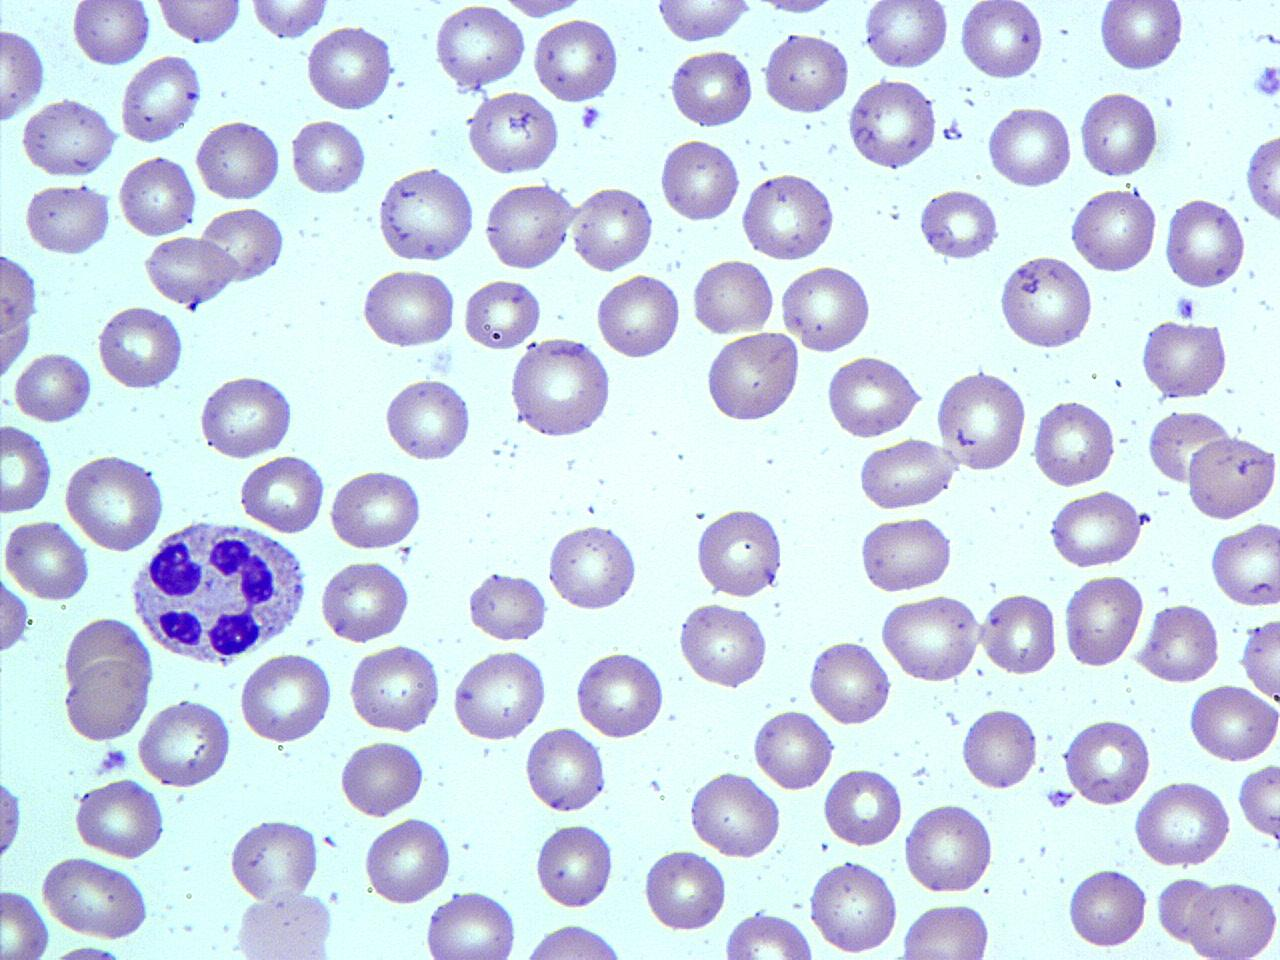Platelets: (1250, 64, 1280, 100), (98, 746, 130, 776), (1042, 786, 1078, 810), (1173, 292, 1199, 322), (578, 103, 604, 131), (940, 116, 964, 142), (187, 298, 201, 314)
RBC: (58, 614, 156, 744), (508, 336, 614, 442), (62, 452, 168, 553), (374, 164, 476, 264), (934, 368, 1028, 473), (997, 253, 1097, 351), (449, 646, 548, 744), (40, 856, 152, 942), (238, 648, 336, 746), (879, 592, 982, 685), (703, 329, 800, 425), (901, 800, 996, 898), (806, 857, 900, 956), (345, 642, 443, 736), (1132, 777, 1234, 867), (134, 698, 234, 789), (846, 76, 940, 172), (544, 520, 640, 614), (738, 170, 836, 262), (195, 375, 298, 462), (779, 262, 876, 354), (687, 769, 784, 861), (463, 88, 560, 179), (480, 180, 574, 273), (574, 647, 668, 740), (693, 505, 784, 601), (358, 266, 460, 351), (1068, 183, 1160, 276), (676, 602, 770, 692), (431, 4, 529, 90), (824, 353, 922, 439), (1161, 194, 1247, 292), (363, 816, 455, 907), (1061, 571, 1145, 670), (304, 23, 395, 114), (530, 15, 622, 105), (381, 374, 473, 464), (73, 774, 167, 862), (522, 722, 608, 818), (1186, 434, 1278, 523), (1047, 487, 1145, 570), (18, 97, 118, 178), (594, 270, 683, 361), (806, 636, 894, 728), (226, 816, 320, 902), (318, 558, 412, 644), (328, 469, 425, 552), (95, 302, 185, 391), (761, 28, 851, 117), (1062, 716, 1150, 807), (984, 102, 1073, 191), (231, 886, 338, 960), (532, 820, 618, 912), (1030, 397, 1116, 489), (570, 182, 655, 275), (855, 514, 955, 593), (642, 844, 728, 935), (656, 134, 742, 225), (1137, 317, 1231, 400), (1186, 682, 1280, 765), (1, 517, 92, 602), (336, 736, 427, 821), (119, 53, 202, 145), (1078, 88, 1160, 180), (194, 117, 281, 203), (238, 452, 327, 536), (1066, 864, 1150, 952), (856, 438, 958, 510), (668, 46, 754, 131), (1133, 602, 1221, 685), (1188, 877, 1276, 960), (116, 150, 197, 240), (21, 179, 113, 258), (958, 0, 1045, 83), (142, 230, 237, 306), (822, 764, 904, 851), (752, 708, 836, 792), (200, 202, 285, 285), (960, 705, 1040, 793), (980, 588, 1058, 678), (690, 256, 777, 336), (916, 184, 1002, 262), (1097, 0, 1185, 75), (423, 890, 518, 959), (1208, 518, 1280, 609), (862, 0, 952, 72), (288, 117, 368, 197), (12, 348, 94, 426), (465, 570, 548, 644), (462, 277, 542, 352), (0, 245, 41, 389), (898, 900, 993, 959), (69, 0, 150, 67), (0, 418, 54, 515), (720, 908, 819, 958), (0, 25, 48, 125), (1154, 874, 1220, 946), (516, 920, 634, 960), (653, 0, 754, 44), (152, 0, 245, 46), (0, 886, 51, 960), (244, 0, 334, 40), (1236, 762, 1280, 841), (1240, 616, 1280, 700), (1243, 131, 1279, 224), (0, 567, 31, 661), (0, 766, 24, 872), (746, 0, 848, 19)
WBC: (125, 516, 310, 668), (996, 253, 1094, 350), (433, 1, 534, 93), (17, 95, 121, 178), (231, 890, 342, 958)
